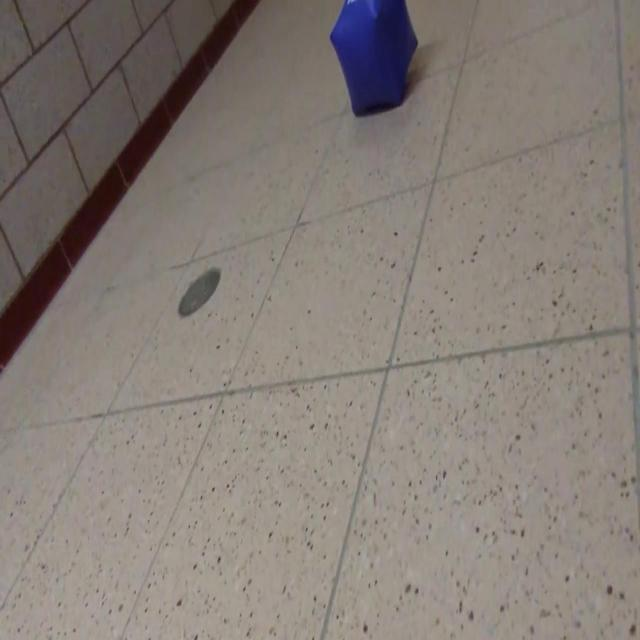frc_cube: (329, 0, 418, 117)
